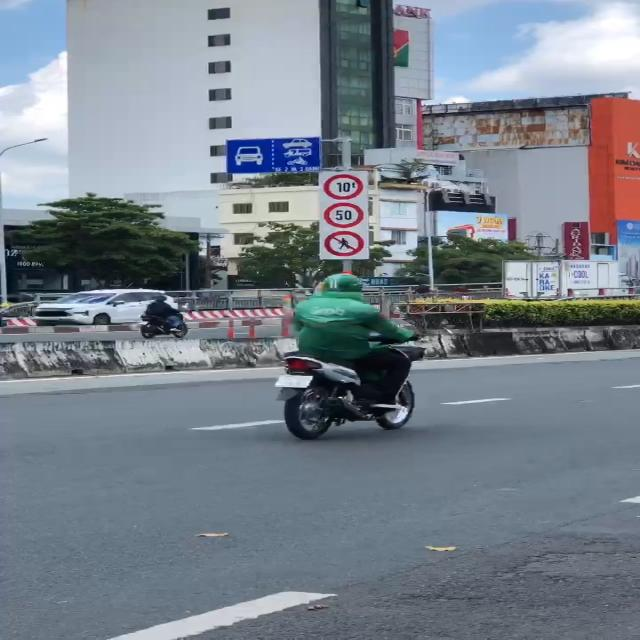Bien bao cam nguoi di bo: (322, 228, 369, 259)
Bien bao toc do toi da cho phep: (322, 202, 368, 229)
